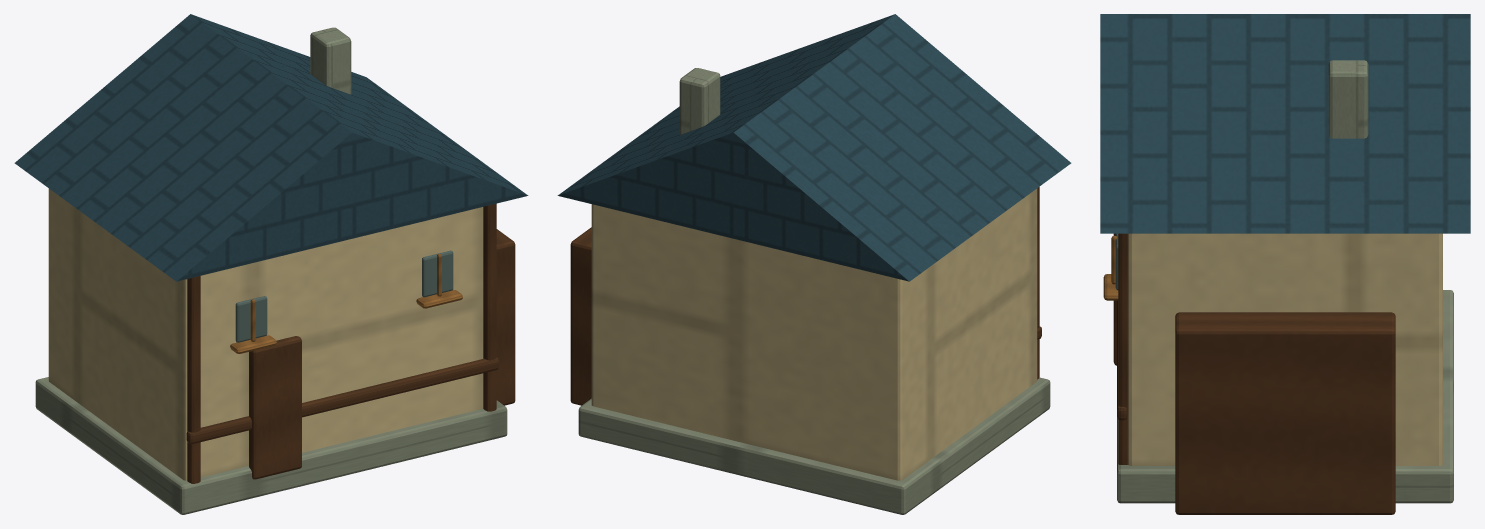
File: barracks.glb
3 renders of one model, left to right at view 1: azimuth 30°, elevation 25°; view 2: azimuth 150°, elevation 25°; view 3: azimuth 270°, elevation 25°, orthographic. The views are drawn at different scales.
Visible parts, largest first — view 1: gable_roof, plaster, foundation, door, beam, rack, timber_corner, timber_corner.001, chimney, window_inset, window_inset.001; view 2: plaster, gable_roof, foundation, rack, chimney; view 3: gable_roof, rack, plaster, foundation, chimney, timber_corner.001.
Boxes of the visible parts, bbox=[...] form: gable_roof: bbox=[14, 14, 528, 281]; plaster: bbox=[48, 188, 483, 480]; foundation: bbox=[35, 377, 507, 514]; door: bbox=[249, 336, 301, 479]; beam: bbox=[186, 357, 498, 444]; rack: bbox=[496, 229, 515, 405]; timber_corner: bbox=[187, 276, 200, 483]; timber_corner.001: bbox=[483, 203, 496, 411]; chimney: bbox=[310, 27, 351, 94]; window_inset: bbox=[235, 296, 267, 342]; window_inset.001: bbox=[422, 250, 453, 297]; plaster: bbox=[591, 188, 1037, 480]; gable_roof: bbox=[557, 14, 1071, 281]; foundation: bbox=[578, 377, 1050, 514]; rack: bbox=[570, 227, 591, 405]; chimney: bbox=[679, 68, 720, 134]; gable_roof: bbox=[1100, 14, 1470, 233]; rack: bbox=[1175, 312, 1395, 514]; plaster: bbox=[1128, 233, 1442, 465]; foundation: bbox=[1117, 290, 1453, 503]; chimney: bbox=[1328, 60, 1368, 138]; timber_corner.001: bbox=[1118, 233, 1128, 464].
Bounding box in the file's own units: 3.13 × 2.8 × 2.35.
6 materials, 5 textured.
